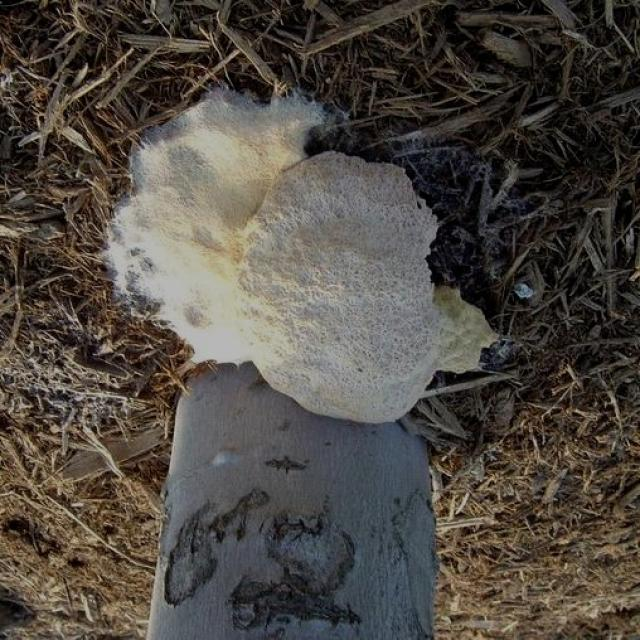Dog_vomit_slime_mold: (90, 69, 500, 439)
